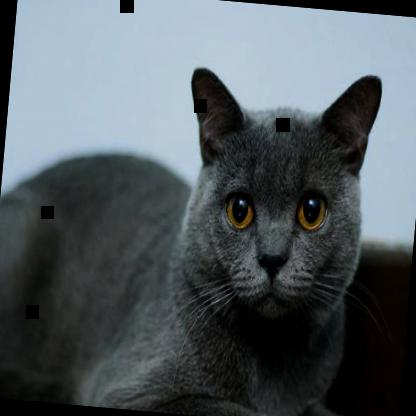cat: (0, 42, 405, 415)
